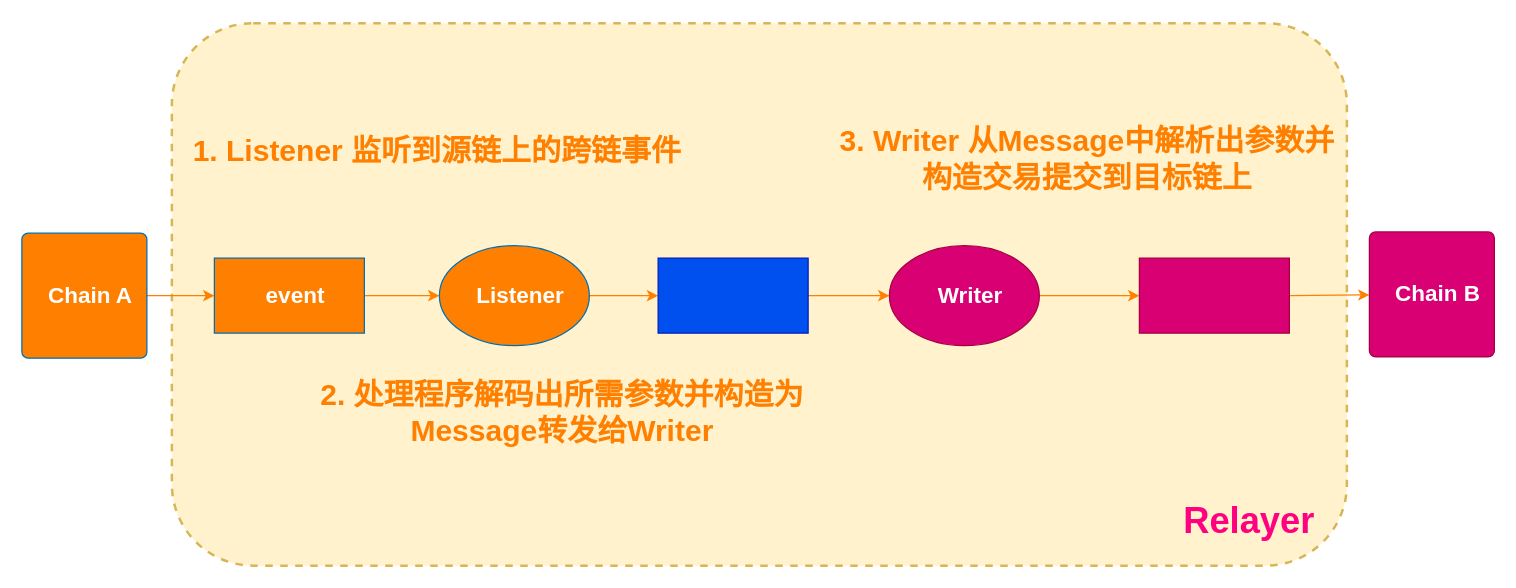
Some shapes in this 1516 by 588 pixel diagram are drawn without their labels. The box of each missing label's shape, as (x1, y1, x2, y2) in pixels:
Message: (657, 257, 808, 333)
Transaction: (1138, 257, 1289, 333)
